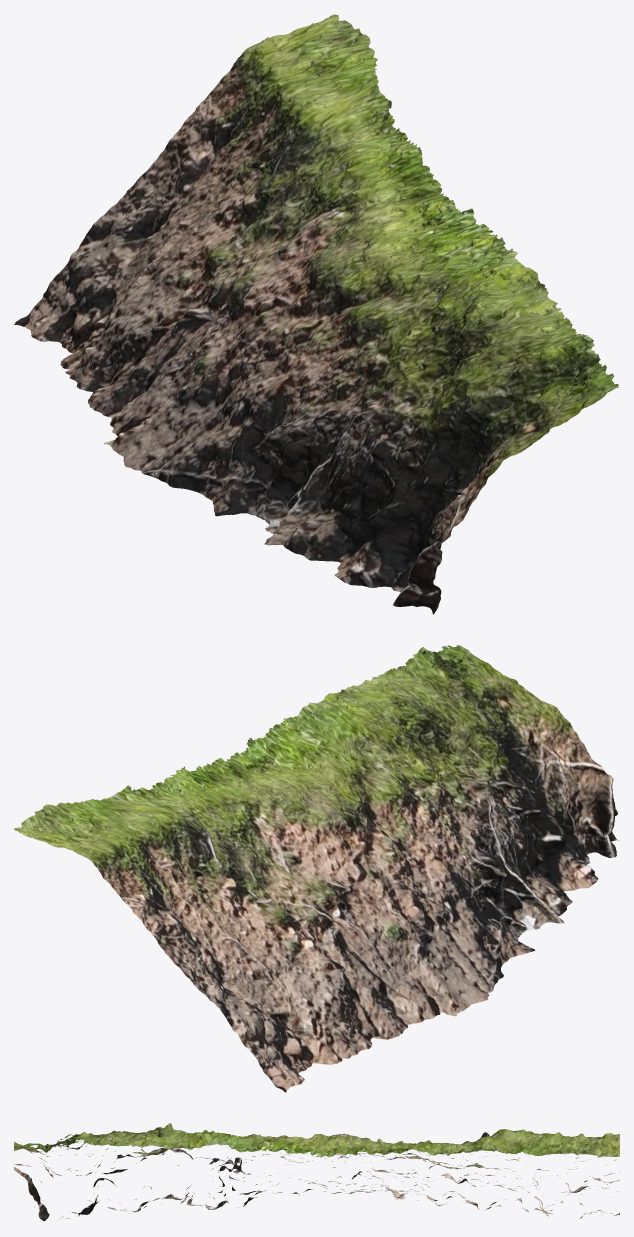
The picture shows the model from 3 angles, top to bottom: view 1: azimuth 30°, elevation 25°; view 2: azimuth 150°, elevation 25°; view 3: azimuth 270°, elevation 25°; orthographic projection. The views are drawn at different scales.
Bounding box in the file's own units: 4.2 × 2.47 × 7.63.
2 materials, 2 textured.
